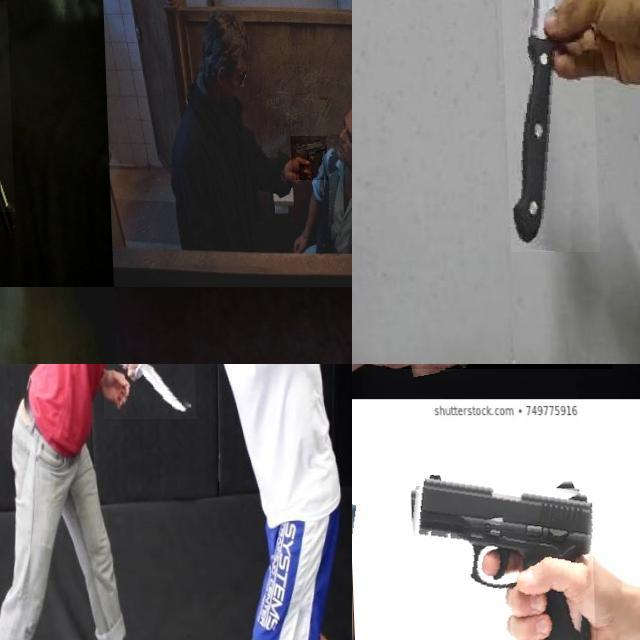-: (495, 0, 596, 252), (98, 364, 193, 419)
gun-knife-thesis - v11 Yolov5 augmented: (393, 472, 592, 640), (378, 364, 610, 471), (352, 479, 461, 640), (0, 1, 61, 212), (352, 364, 385, 427), (288, 136, 326, 180)
